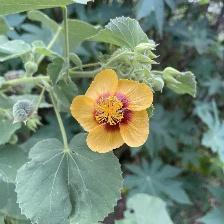indian mallow: (70, 69, 155, 156)
